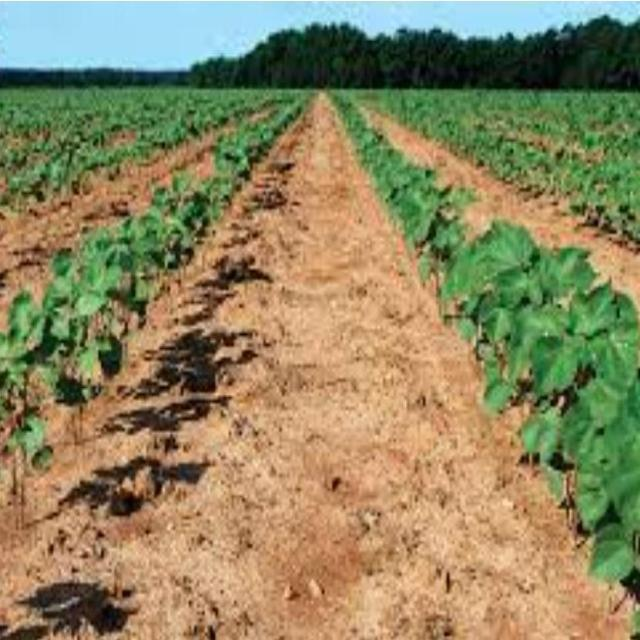row: (0, 94, 638, 639), (0, 108, 272, 412), (360, 102, 640, 372)
